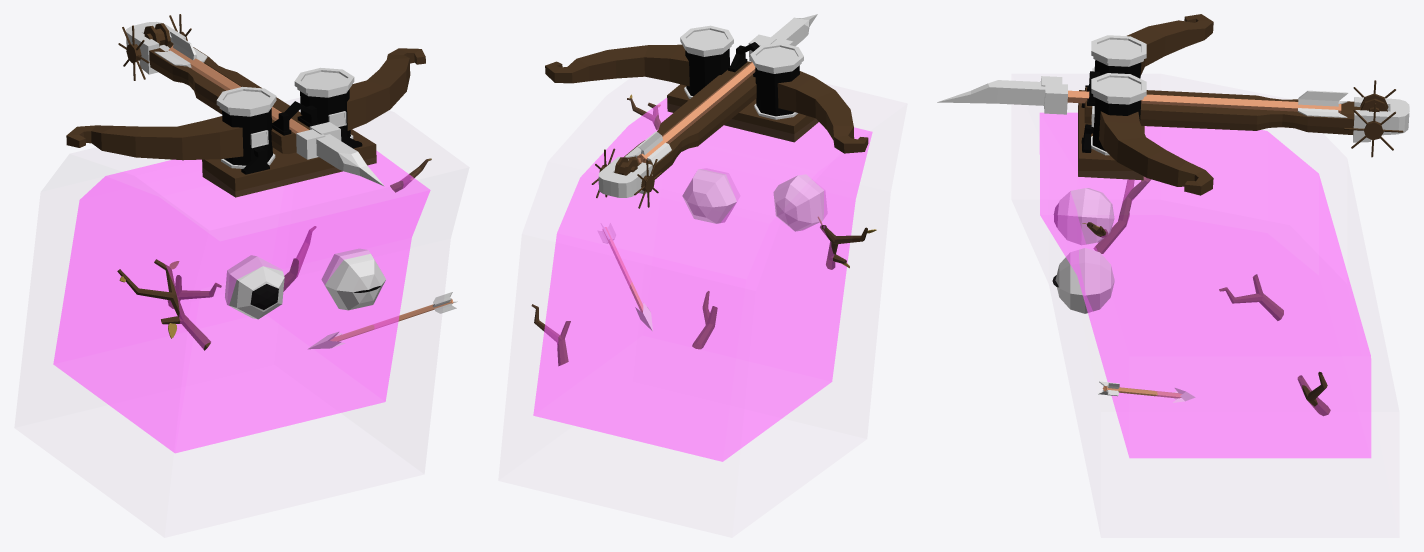
Rendered from Enemy_Range03.fbx.
3 views of the same model, side by side, from view 1: azimuth 30°, elevation 25°; view 2: azimuth 150°, elevation 25°; view 3: azimuth 270°, elevation 25° (orthographic). The views are drawn at different scales.
Parts seen in each view (by area): view 1: Cube.005; view 2: Cube.005; view 3: Cube.005.
Boxes of the visible parts, <box> form: Cube.005: <box>53,14,457,453</box>; Cube.005: <box>531,14,876,461</box>; Cube.005: <box>937,14,1409,458</box>.
Size of the model in its own units: 273 by 303 by 317.
